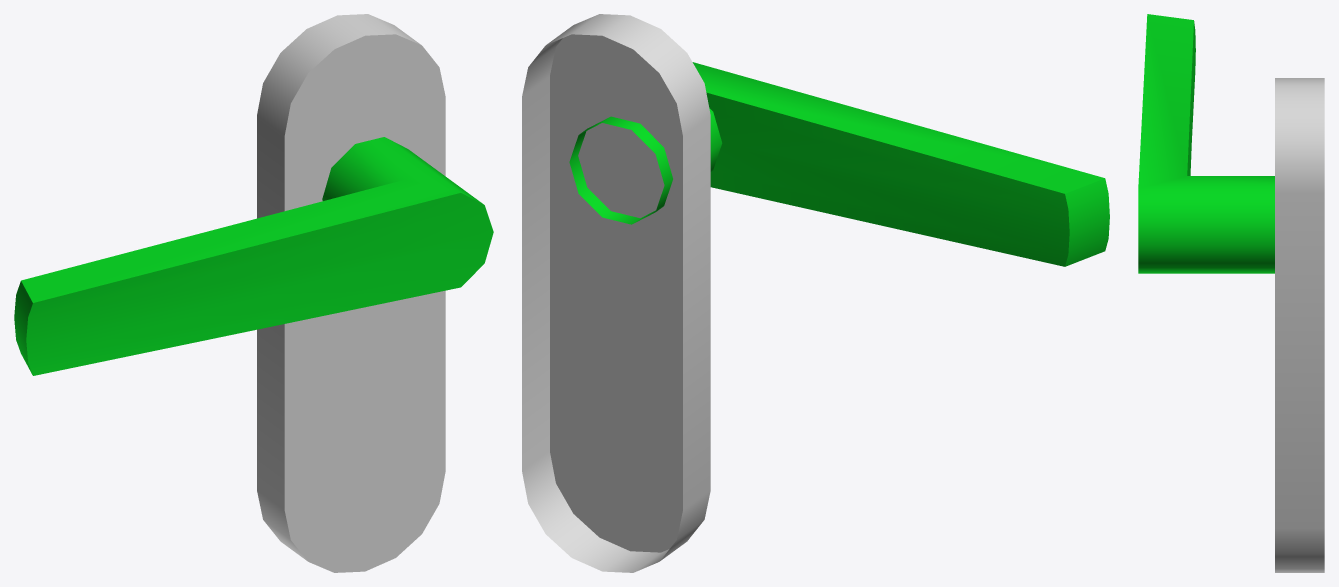
File: Door Knob Outline.fbx
3 renders of one model, left to right at view 1: azimuth 30°, elevation 25°; view 2: azimuth 150°, elevation 25°; view 3: azimuth 270°, elevation 25°, orthographic. The views are drawn at different scales.
Parts seen in each view (by area): view 1: Knob_1.001; view 2: Knob_1.001; view 3: Knob_1.001.
Boxes of the visible parts, x1=… form: Knob_1.001: x1=14, y1=14, x2=493, y2=572; Knob_1.001: x1=522, y1=14, x2=1109, y2=572; Knob_1.001: x1=1138, y1=14, x2=1324, y2=572.
Size of the model in its own units: 12.7 by 13.28 by 4.68.
